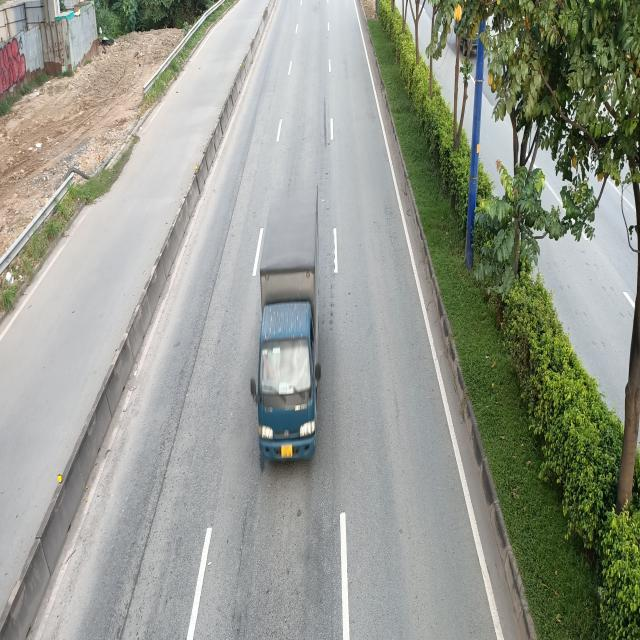truck: (252, 187, 328, 465)
